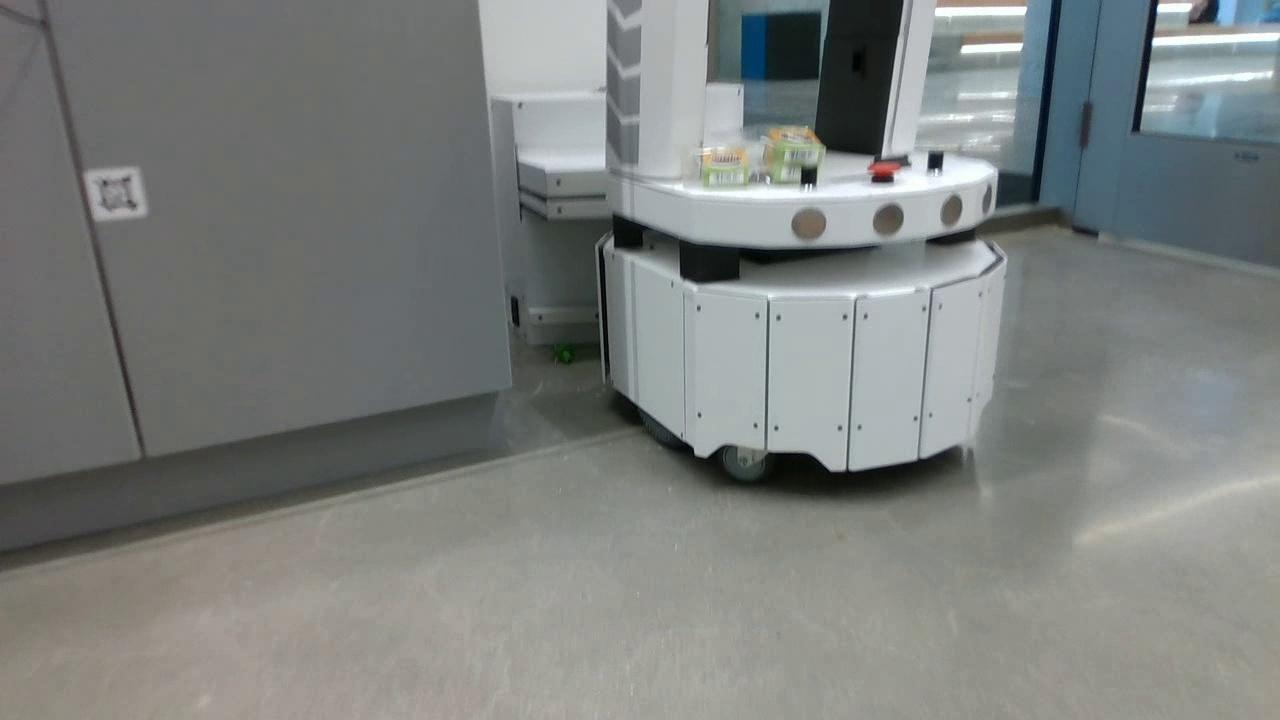grasshopper: (549, 344, 575, 365)
